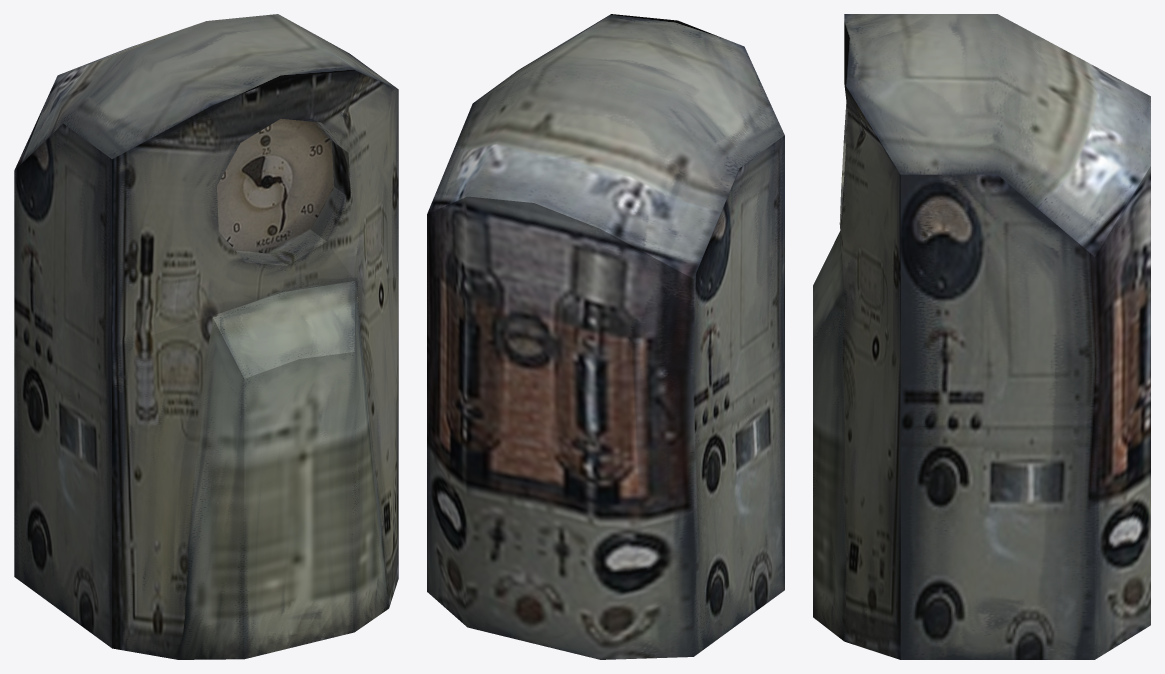
File: timemachine.fbx
The picture shows the model from 3 angles, left to right: view 1: azimuth 30°, elevation 25°; view 2: azimuth 150°, elevation 25°; view 3: azimuth 270°, elevation 25°; orthographic projection. The views are drawn at different scales.
Parts seen in each view (by area): view 1: timemachine; view 2: timemachine; view 3: timemachine.
Part boxes in pixels (x1,y1,x2,y2): timemachine: (14, 14, 398, 659); timemachine: (427, 14, 784, 659); timemachine: (813, 14, 1150, 659).
Bounding box in the file's own units: 0.7586 × 1.41 × 0.781.
